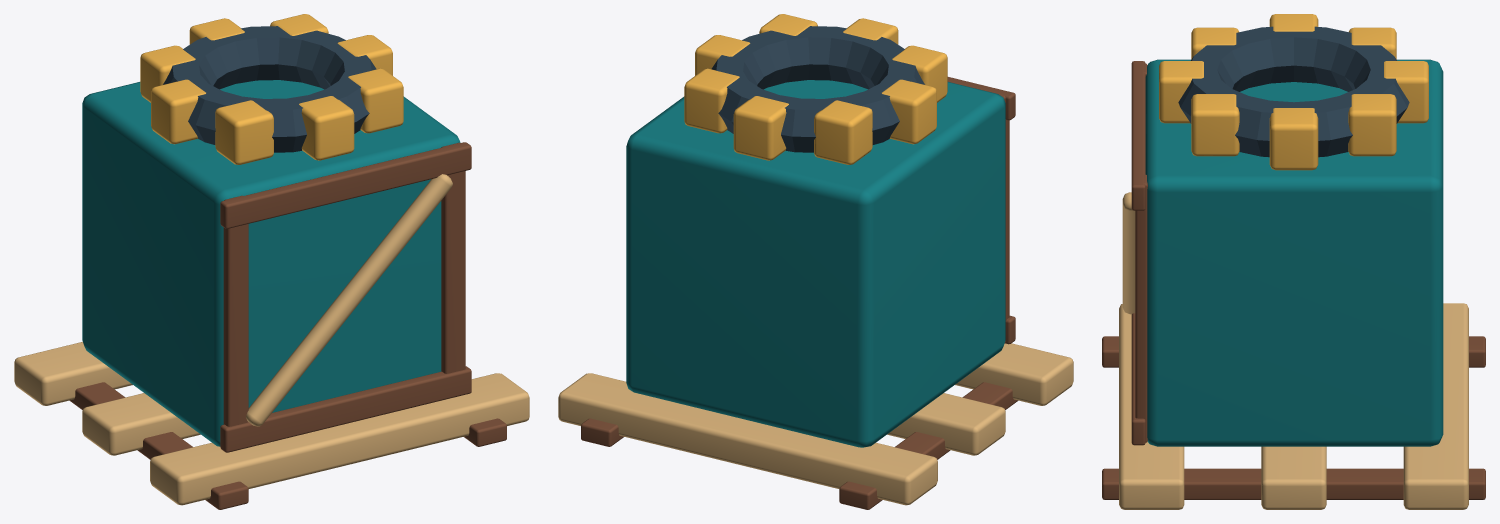
Rendered from Cargo_MachineParts.fbx.
The picture shows the model from 3 angles, left to right: view 1: azimuth 30°, elevation 25°; view 2: azimuth 150°, elevation 25°; view 3: azimuth 270°, elevation 25°; orthographic projection. The views are drawn at different scales.
Visible parts, largest first — view 1: Cargo_MachineParts_Static; view 2: Cargo_MachineParts_Static; view 3: Cargo_MachineParts_Static.
Part boxes in pixels (x1,y1,x2,y2): Cargo_MachineParts_Static: [14, 14, 529, 509]; Cargo_MachineParts_Static: [558, 14, 1073, 509]; Cargo_MachineParts_Static: [1102, 14, 1485, 509].
Size of the model in its own units: 1.5 by 1.39 by 1.35.
1 material, 1 textured.
